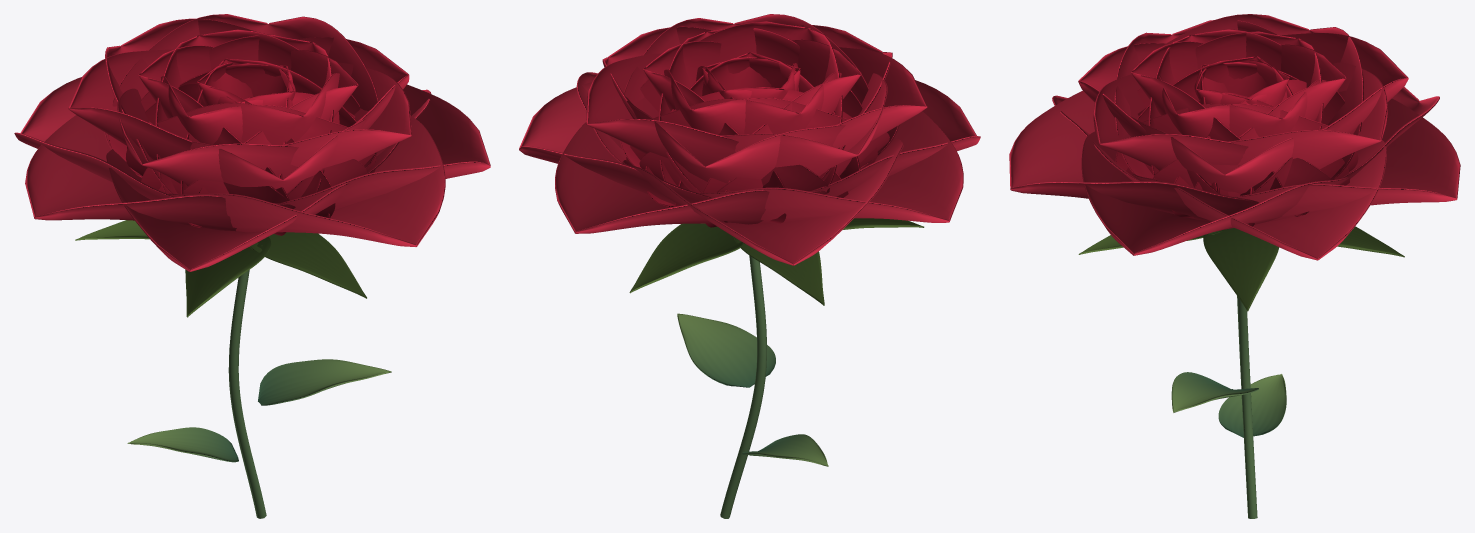
Rendered from rose.glb.
The picture shows the model from 3 angles, left to right: view 1: azimuth 30°, elevation 25°; view 2: azimuth 150°, elevation 25°; view 3: azimuth 270°, elevation 25°; orthographic projection. The views are drawn at different scales.
Visible parts, largest first — view 1: 玫瑰 (×29); view 2: 玫瑰 (×30); view 3: 玫瑰 (×28).
Part boxes in pixels (bbox=[...]): 玫瑰 (×29): bbox=[14, 14, 490, 518]; 玫瑰 (×30): bbox=[519, 14, 980, 518]; 玫瑰 (×28): bbox=[1009, 14, 1460, 518].
Size of the model in its own units: 0.8191 by 0.8908 by 0.8185.
